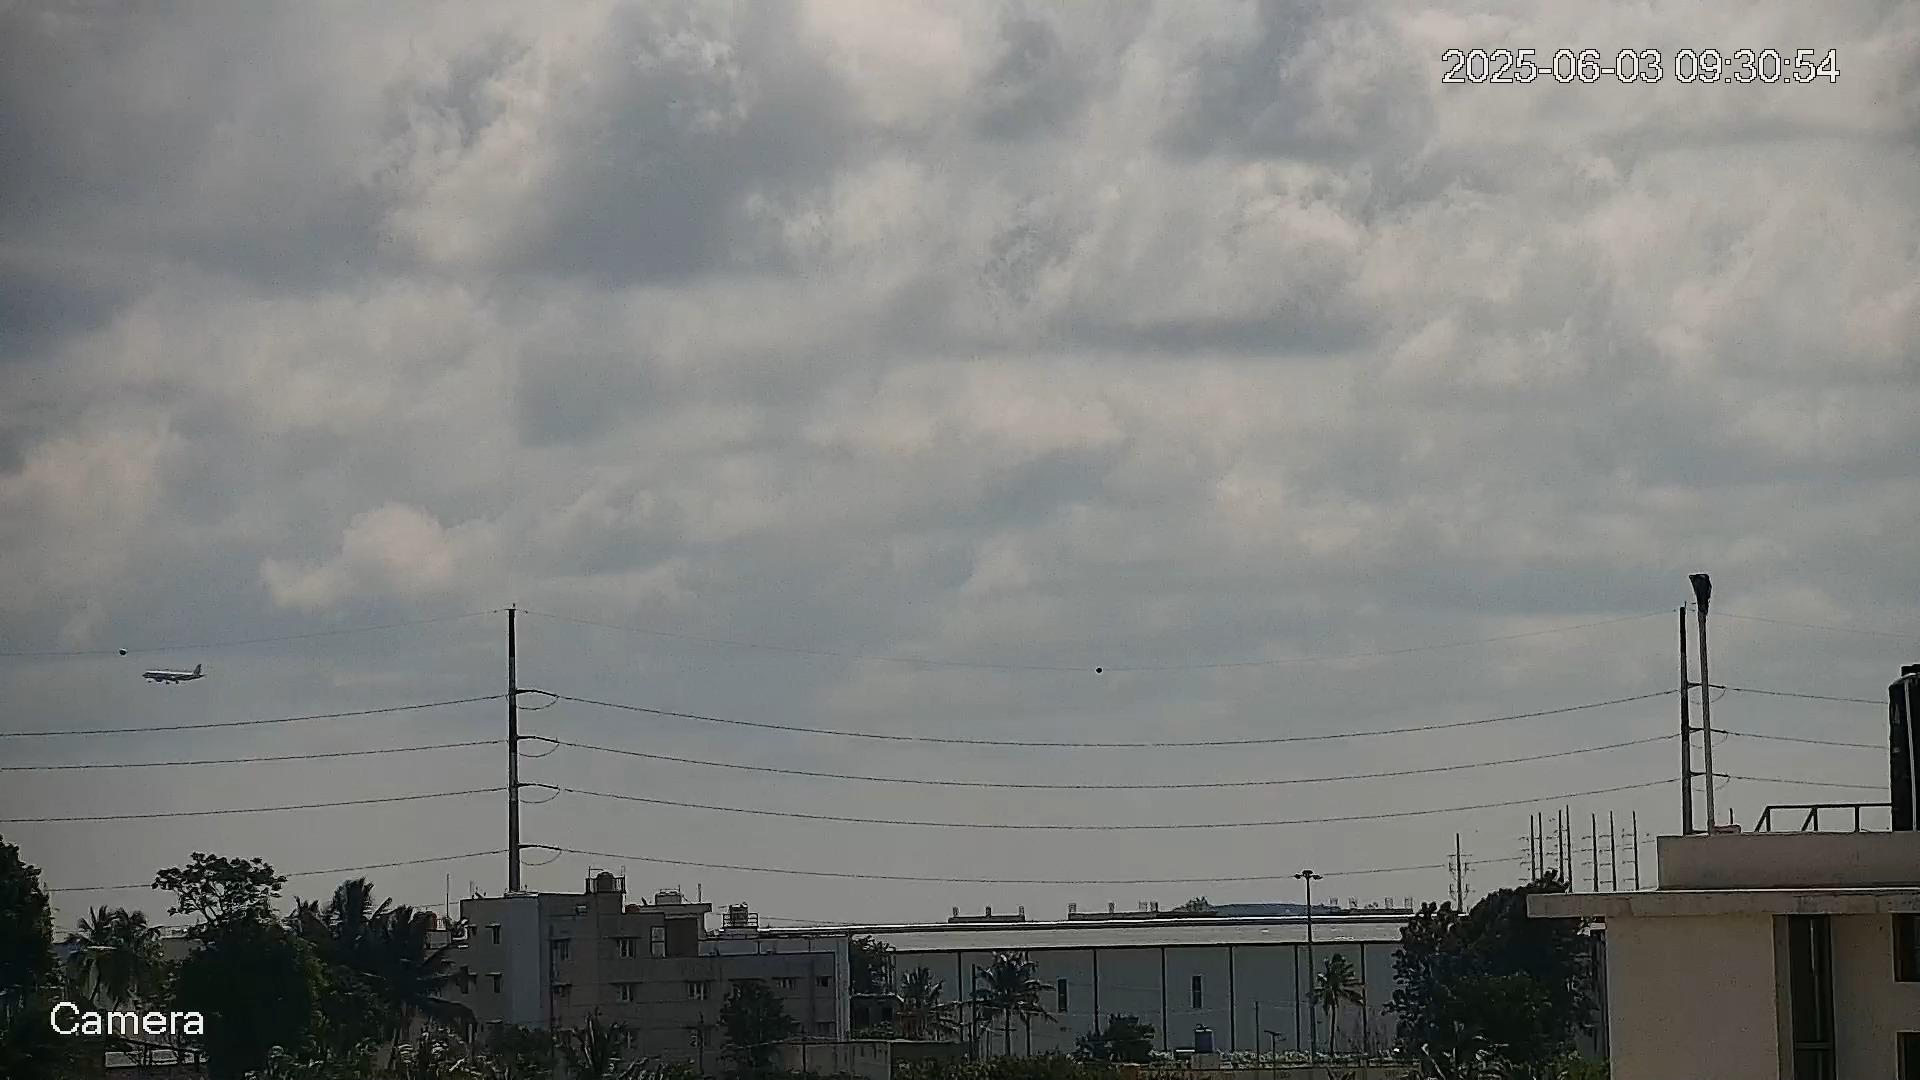Aircraft: (141, 662, 207, 684)
